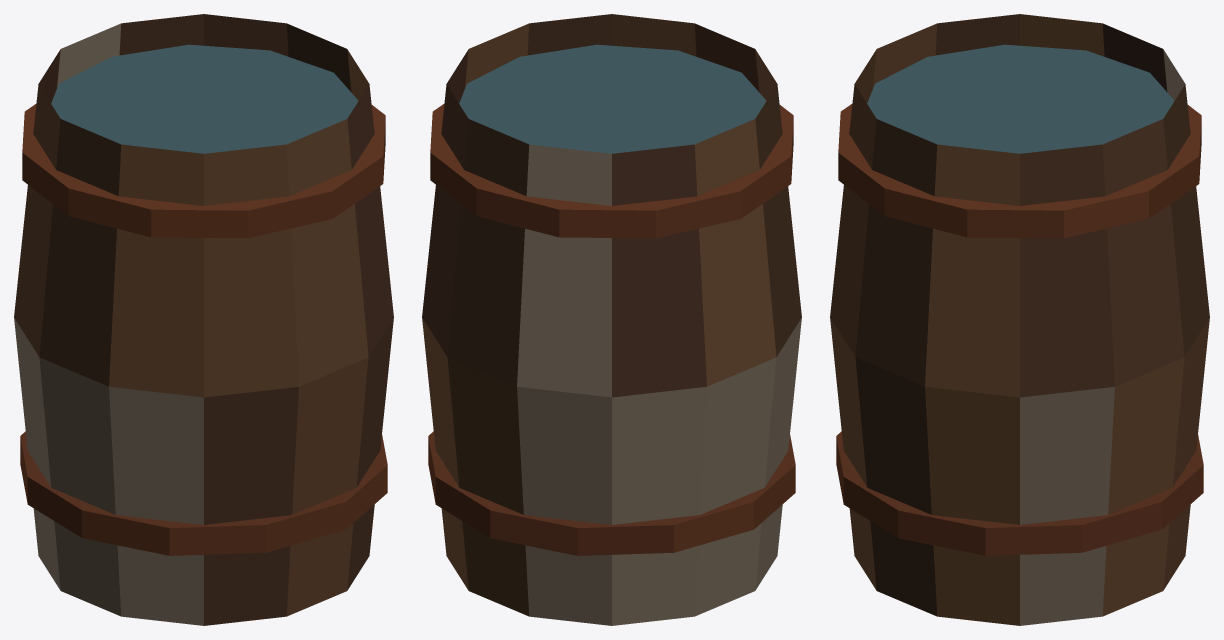
File: barrel.glb
3 renders of one model, left to right at view 1: azimuth 30°, elevation 25°; view 2: azimuth 150°, elevation 25°; view 3: azimuth 270°, elevation 25°, orthographic.
Parts seen in each view (by area): view 1: barrel; view 2: barrel; view 3: barrel.
Boxes of the visible parts, box(x1,y1,x2,y2) form: barrel: box(14, 14, 393, 625); barrel: box(422, 14, 801, 625); barrel: box(830, 14, 1209, 625).
Bounding box in the file's own units: 0.62 × 0.85 × 0.62.
